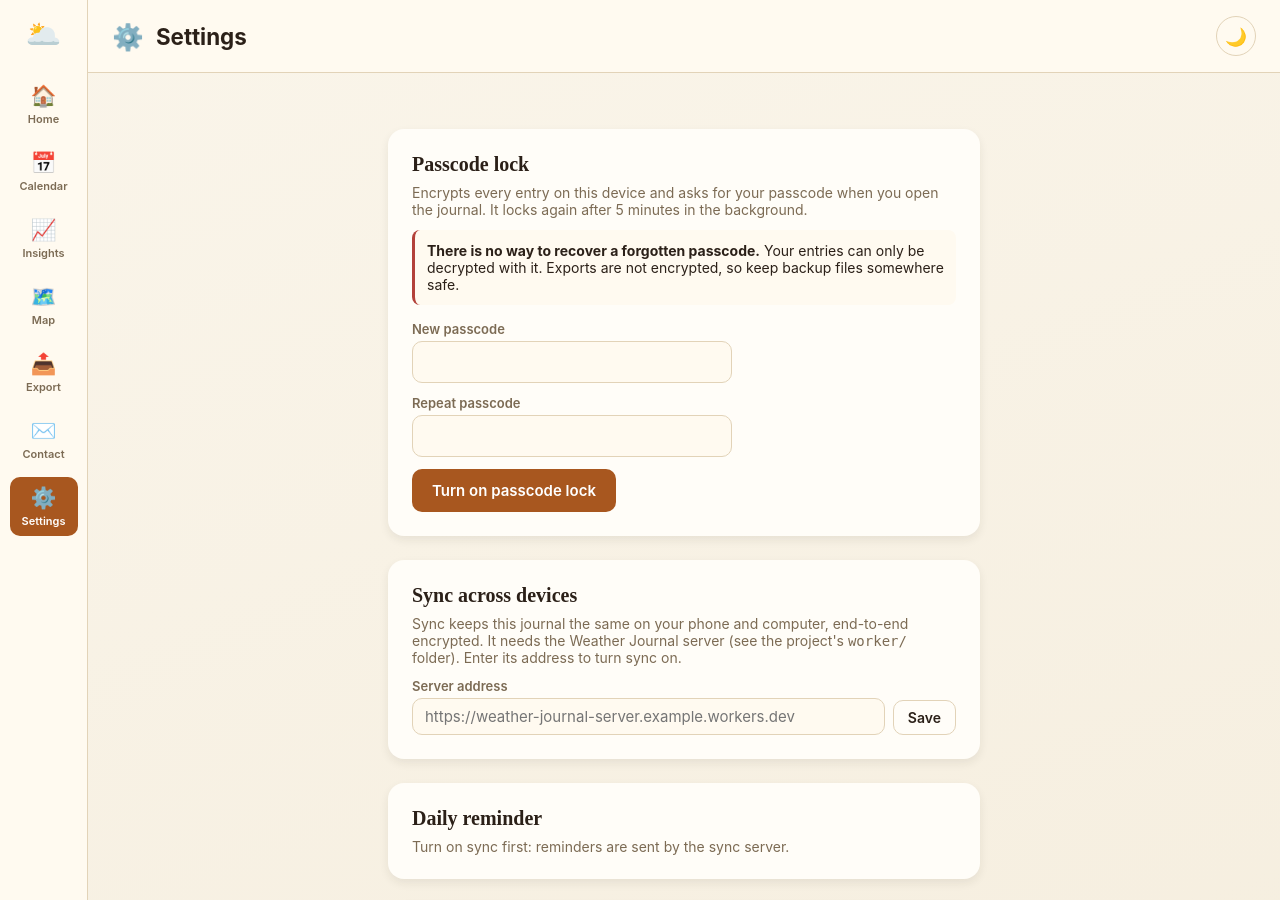
Test case: Passcode lock › turns on from Settings, encrypting existing entries
The image size is (1280, 900).
Type "2468" into the password field labelled "New passcode" at (572, 362), box [412, 341, 732, 383]
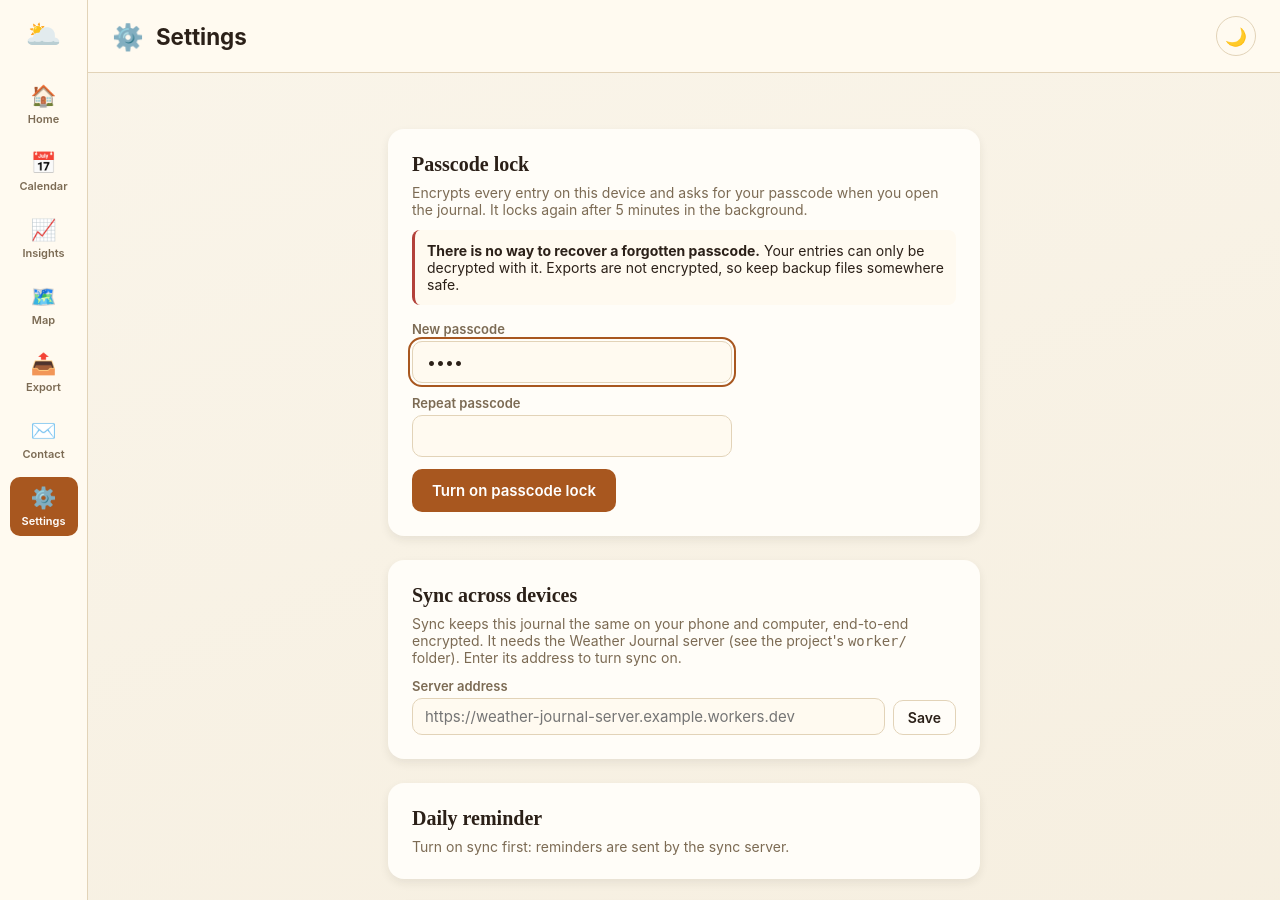
Type "2468" into the password field labelled "Repeat passcode" at (572, 436), box [412, 415, 732, 457]
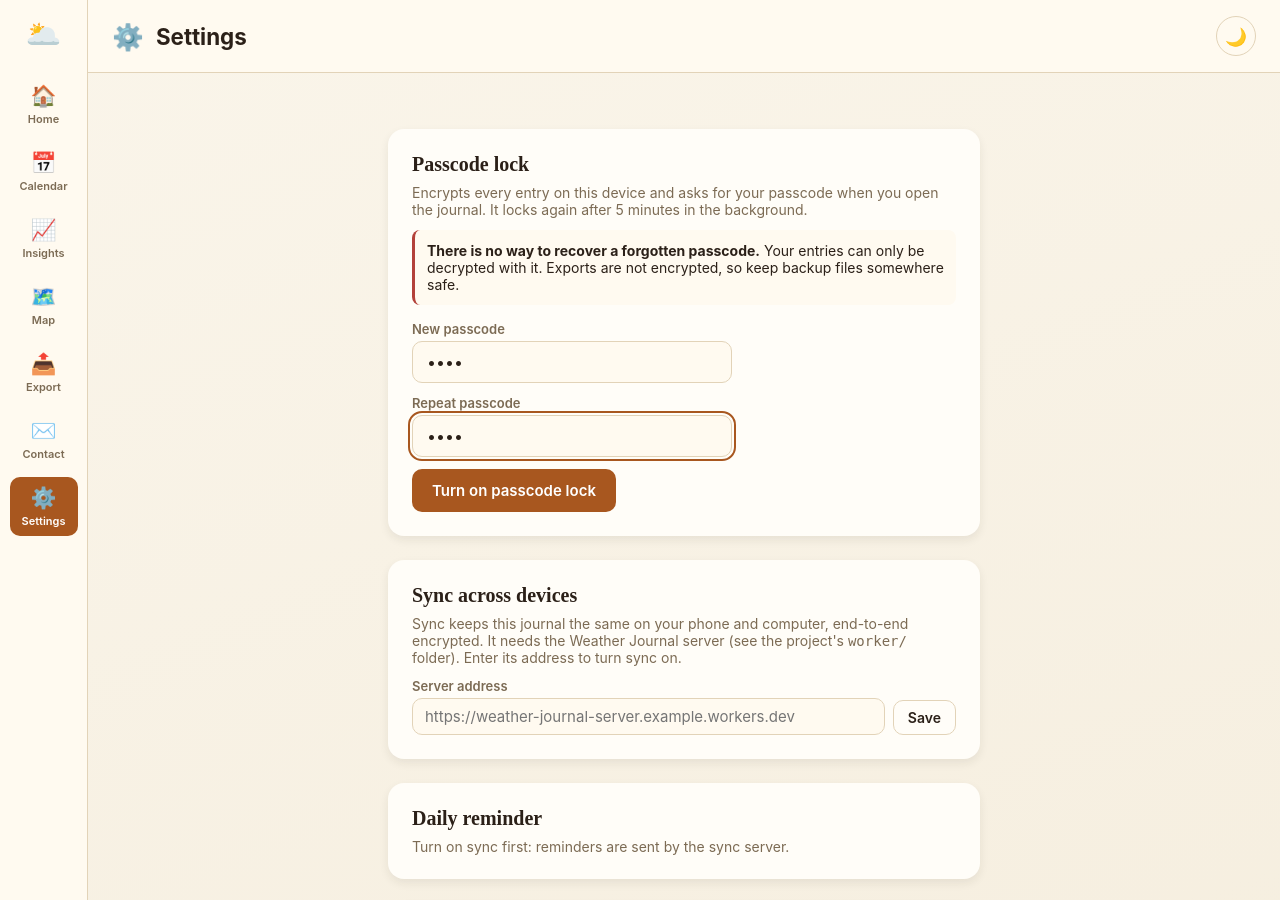
Click the button "Turn on passcode lock" at (514, 490), box [412, 469, 616, 512]
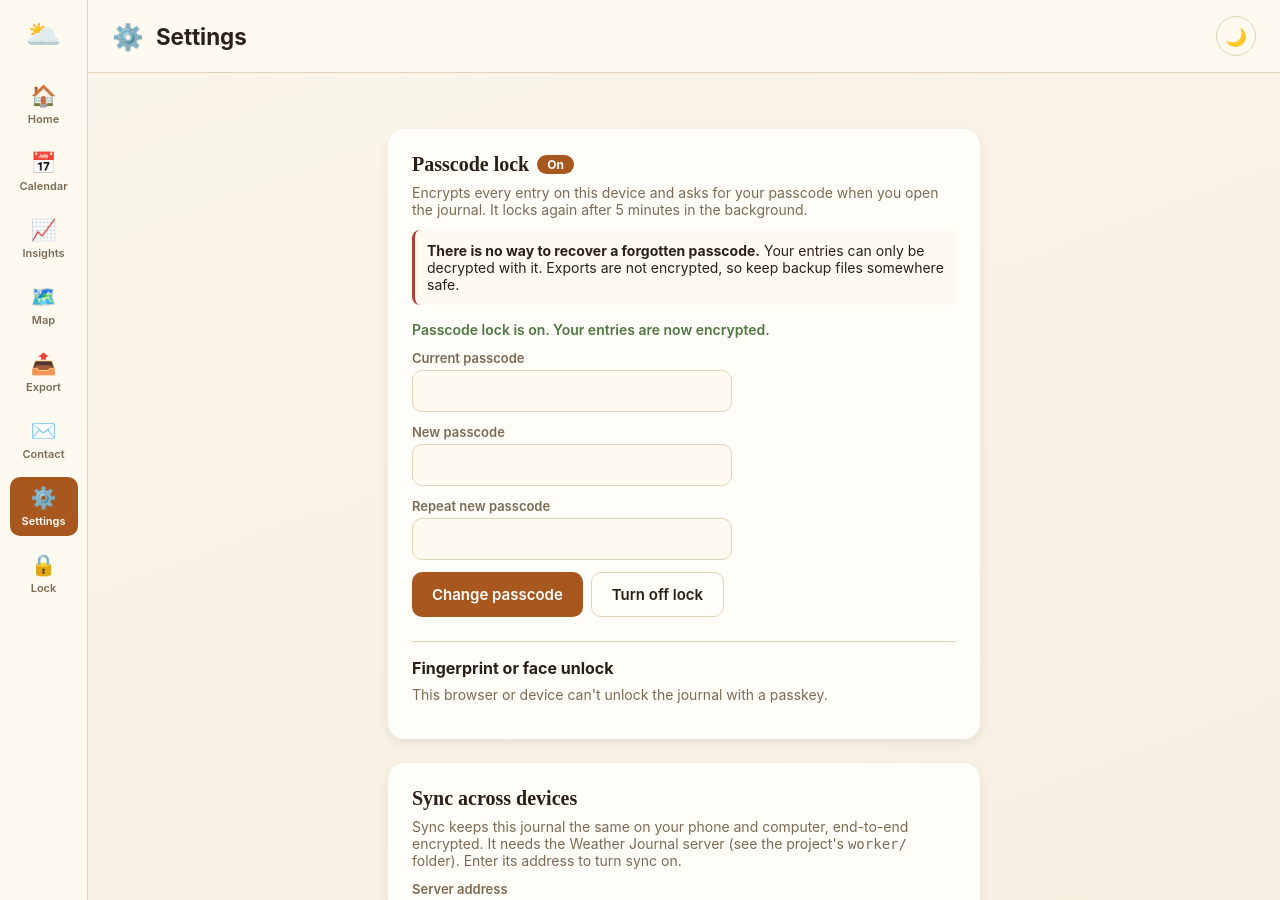
Expected: the message shows "Passcode lock is on", [412, 321, 770, 338]
Expected: the button "🔒 Lock" is shown, [10, 544, 78, 603]
